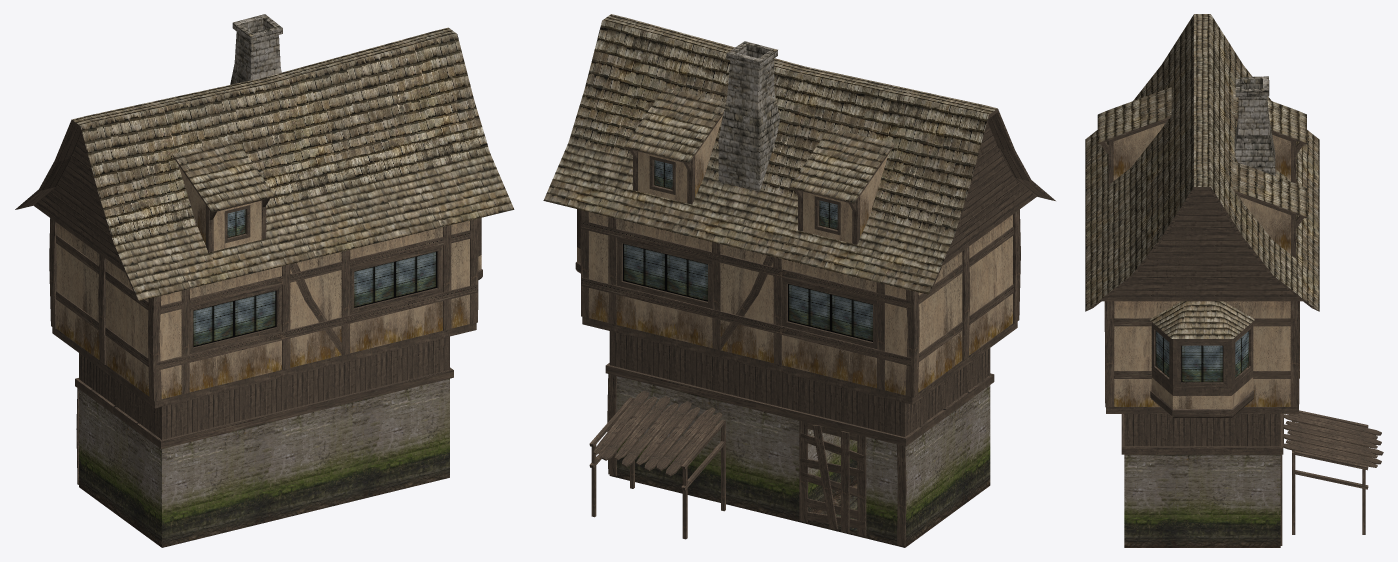
File: f1_house04_lod1.dae
3 renders of one model, left to right at view 1: azimuth 30°, elevation 25°; view 2: azimuth 150°, elevation 25°; view 3: azimuth 270°, elevation 25°, orthographic. The views are drawn at different scales.
Parts seen in each view (by area): view 1: f1_house04_lod1_Layer1; view 2: f1_house04_lod1_Layer1; view 3: f1_house04_lod1_Layer1.
Boxes of the visible parts, x1=… form: f1_house04_lod1_Layer1: x1=15, y1=14, x2=514, y2=547; f1_house04_lod1_Layer1: x1=543, y1=14, x2=1055, y2=547; f1_house04_lod1_Layer1: x1=1085, y1=14, x2=1383, y2=547.
Bounding box in the file's own units: 8.17 × 8.63 × 5.72.
